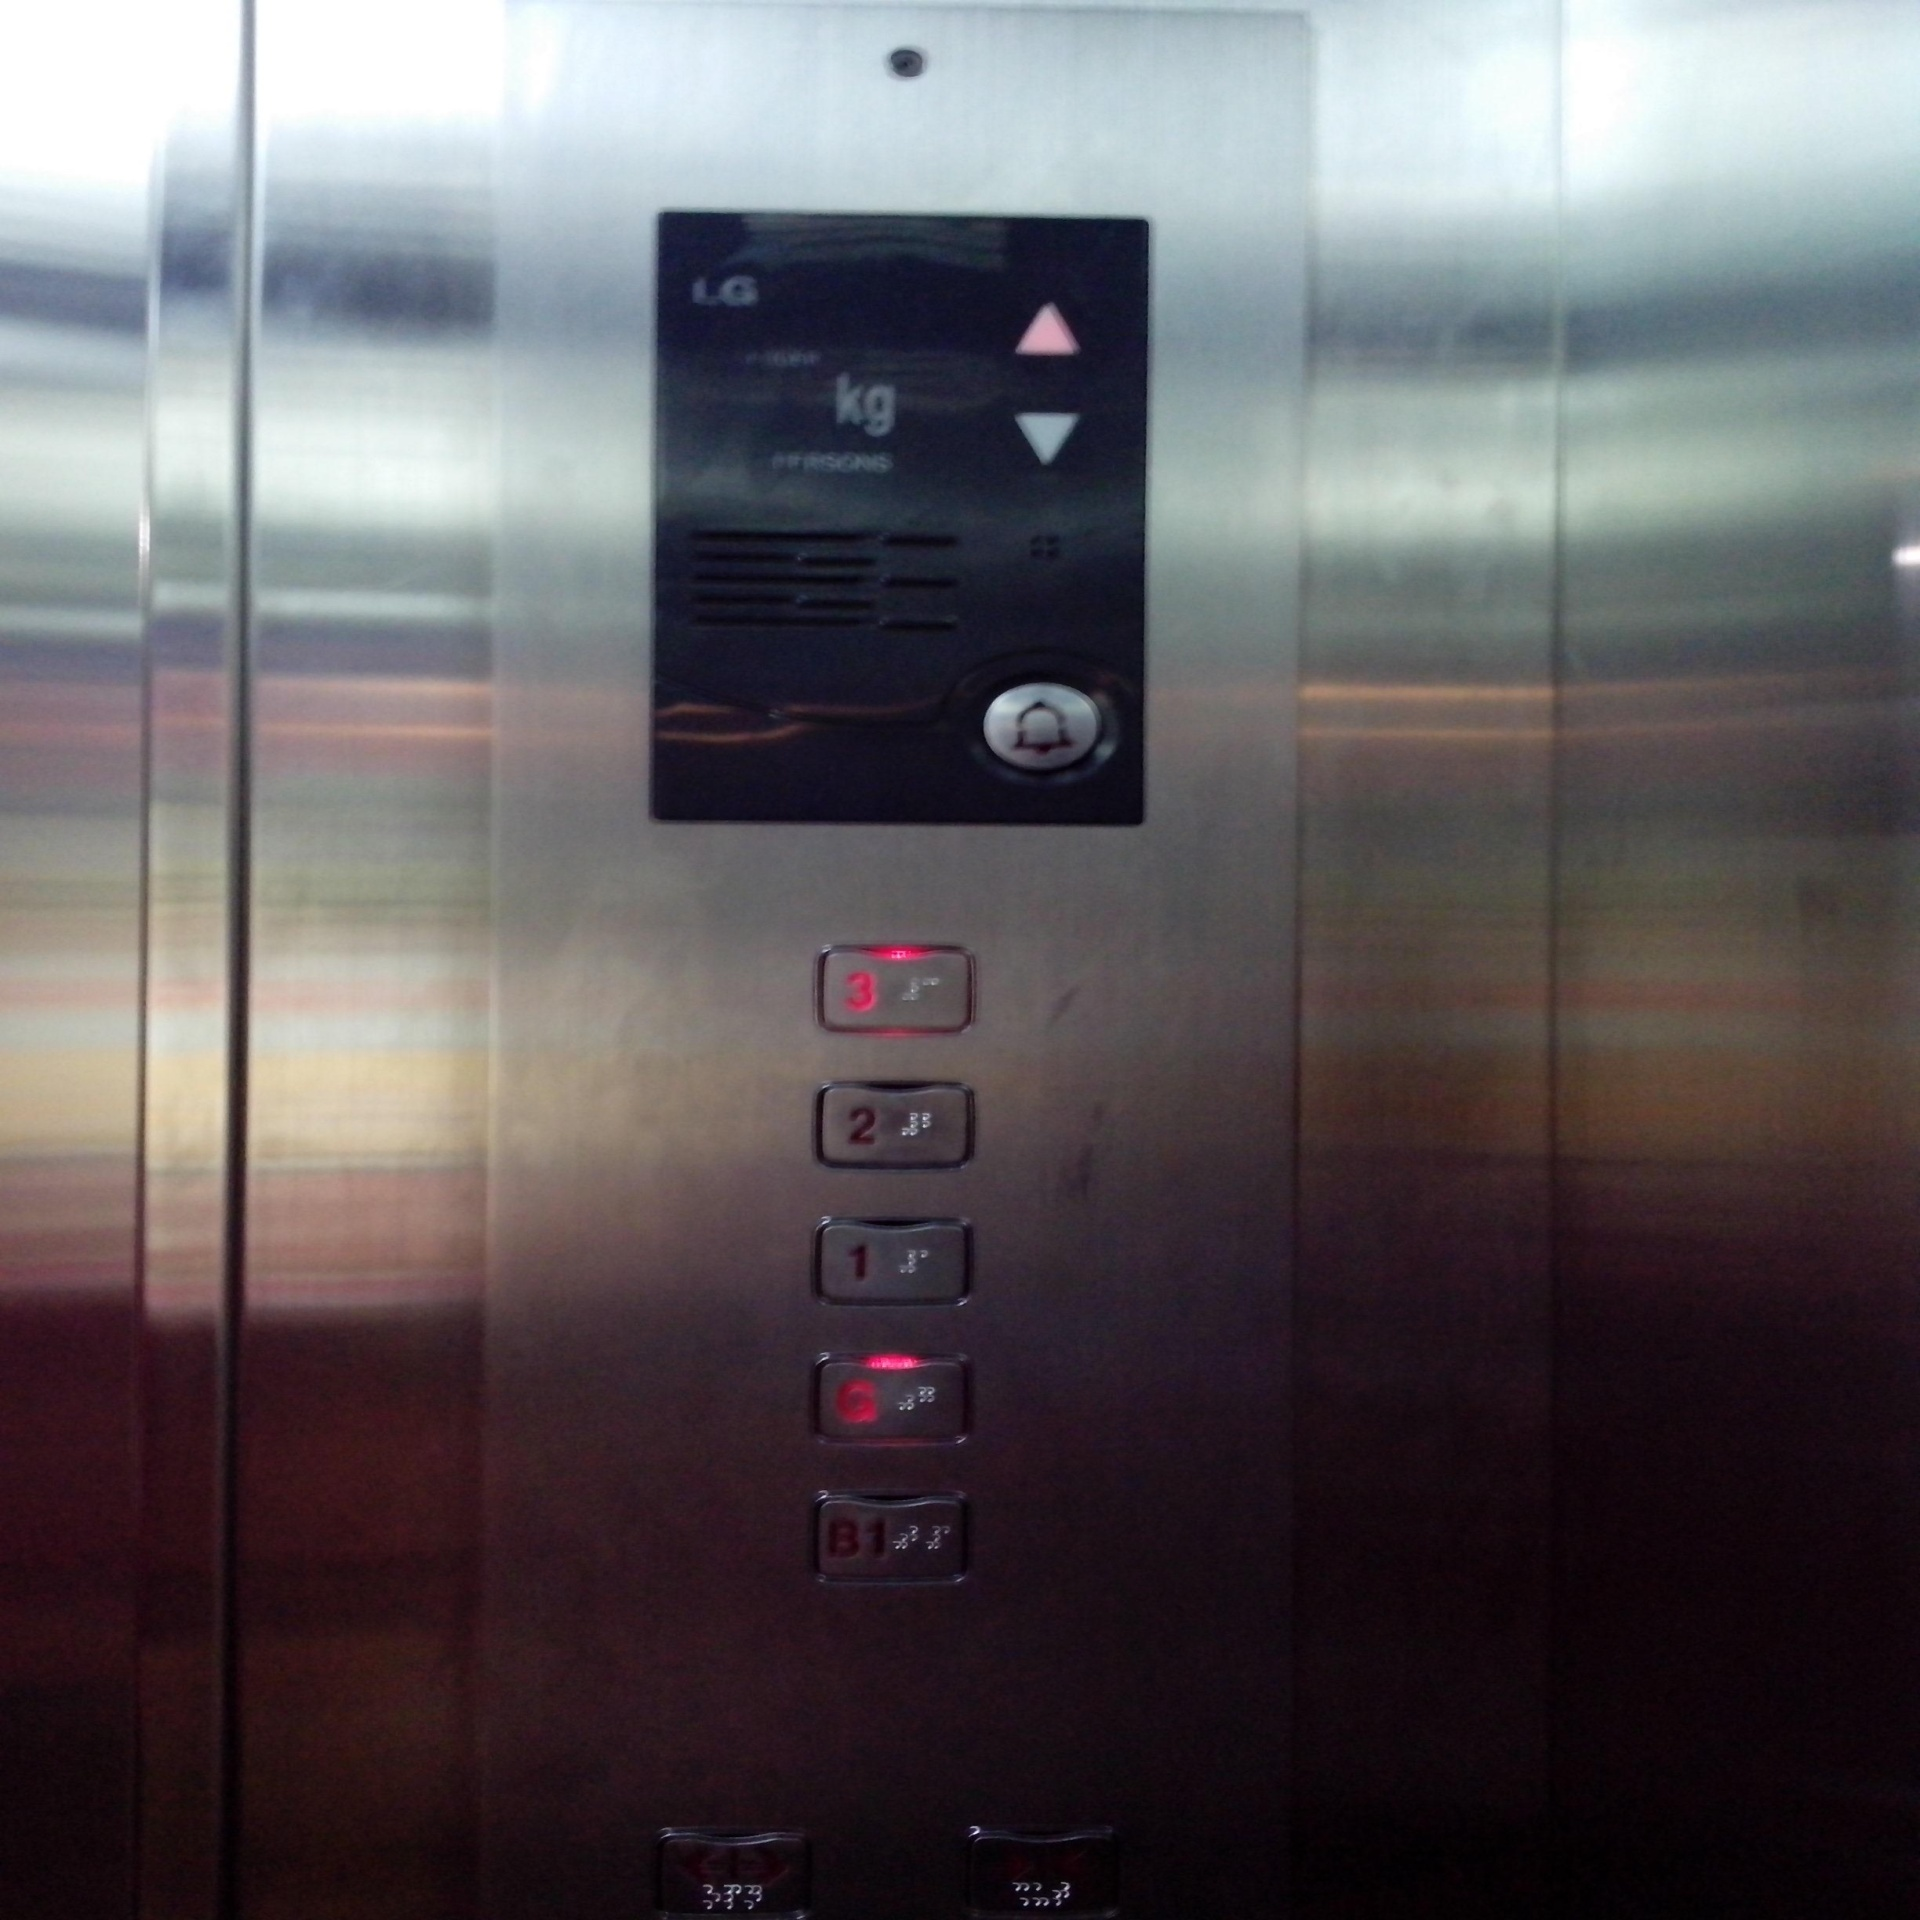1: (811, 1217, 974, 1306)
2: (812, 1080, 976, 1169)
3: (812, 944, 976, 1036)
B1: (812, 1489, 976, 1593)
G: (811, 1350, 978, 1451)
alarm: (983, 679, 1104, 774)
unknown: (962, 1823, 1122, 1918), (654, 1827, 812, 1920)
